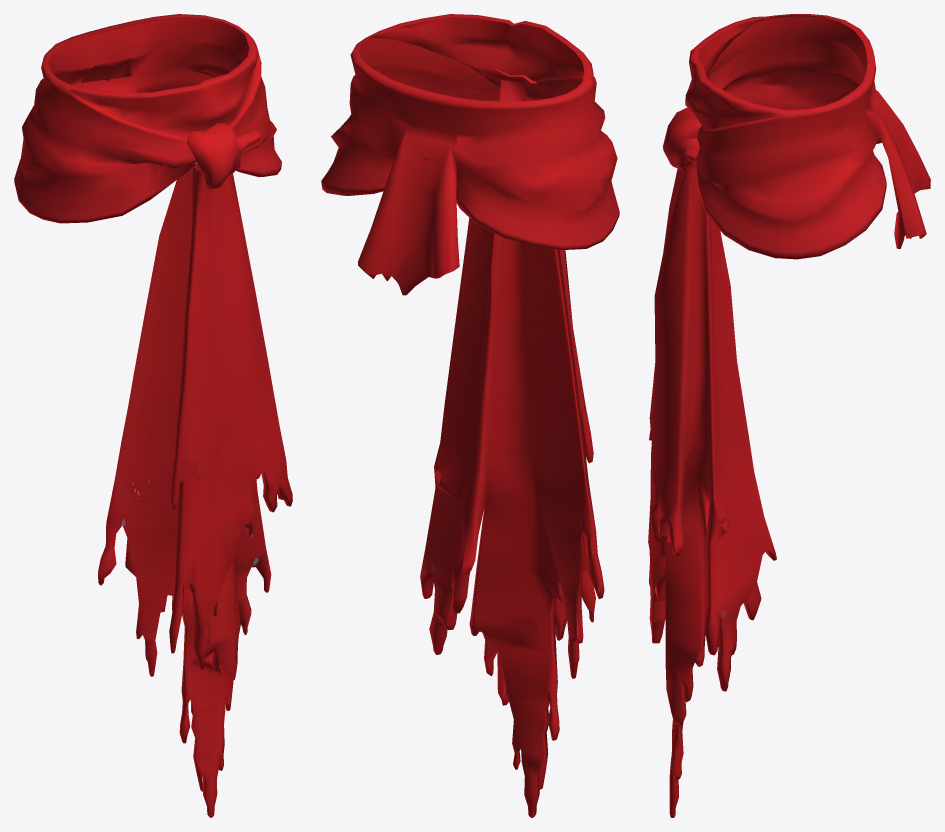
Rendered from waist.glb.
3 views of the same model, side by side, from view 1: azimuth 30°, elevation 25°; view 2: azimuth 150°, elevation 25°; view 3: azimuth 270°, elevation 25° (orthographic). The views are drawn at different scales.
Visible parts, largest first — view 1: tripo_node_8c61b627-0d93-4c79-8420-02ad5c484ef2; view 2: tripo_node_8c61b627-0d93-4c79-8420-02ad5c484ef2; view 3: tripo_node_8c61b627-0d93-4c79-8420-02ad5c484ef2.
Part boxes in pixels (x1,y1,x2,y2): tripo_node_8c61b627-0d93-4c79-8420-02ad5c484ef2: (14,14,292,817); tripo_node_8c61b627-0d93-4c79-8420-02ad5c484ef2: (321,14,619,817); tripo_node_8c61b627-0d93-4c79-8420-02ad5c484ef2: (648,14,930,817).
Size of the model in its own units: 0.3472 by 0.9995 by 0.3384.
Materials: 1 (1 with a texture image).
